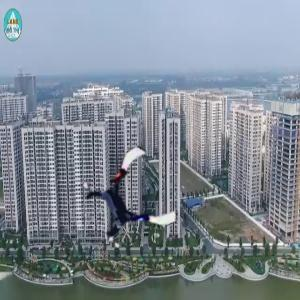drone: (85, 153, 175, 243)
